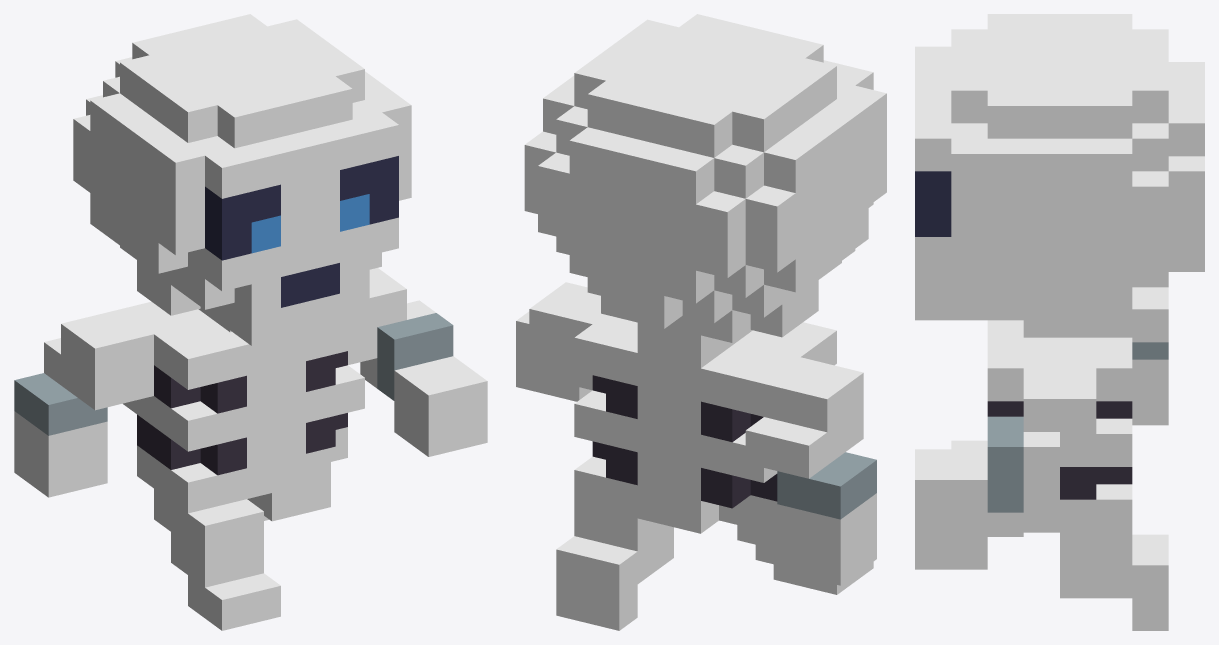
File: Player-2-Step_R.obj
3 renders of one model, left to right at view 1: azimuth 30°, elevation 25°; view 2: azimuth 150°, elevation 25°; view 3: azimuth 270°, elevation 25°, orthographic. The views are drawn at different scales.
Parts seen in each view (by area): view 1: Step_R; view 2: Step_R; view 3: Step_R.
Boxes of the visible parts, <box> form: Step_R: <box>14,14,487,630</box>; Step_R: <box>516,14,886,630</box>; Step_R: <box>915,14,1204,630</box>.
Size of the model in its own units: 1.2 by 1.6 by 0.8.
Materials: 1 (1 with a texture image).
